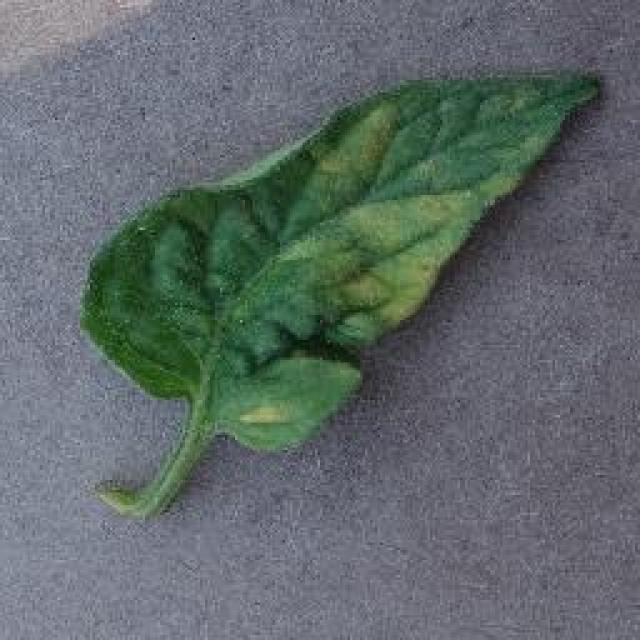Tomato mold leaf: (78, 65, 592, 463)
